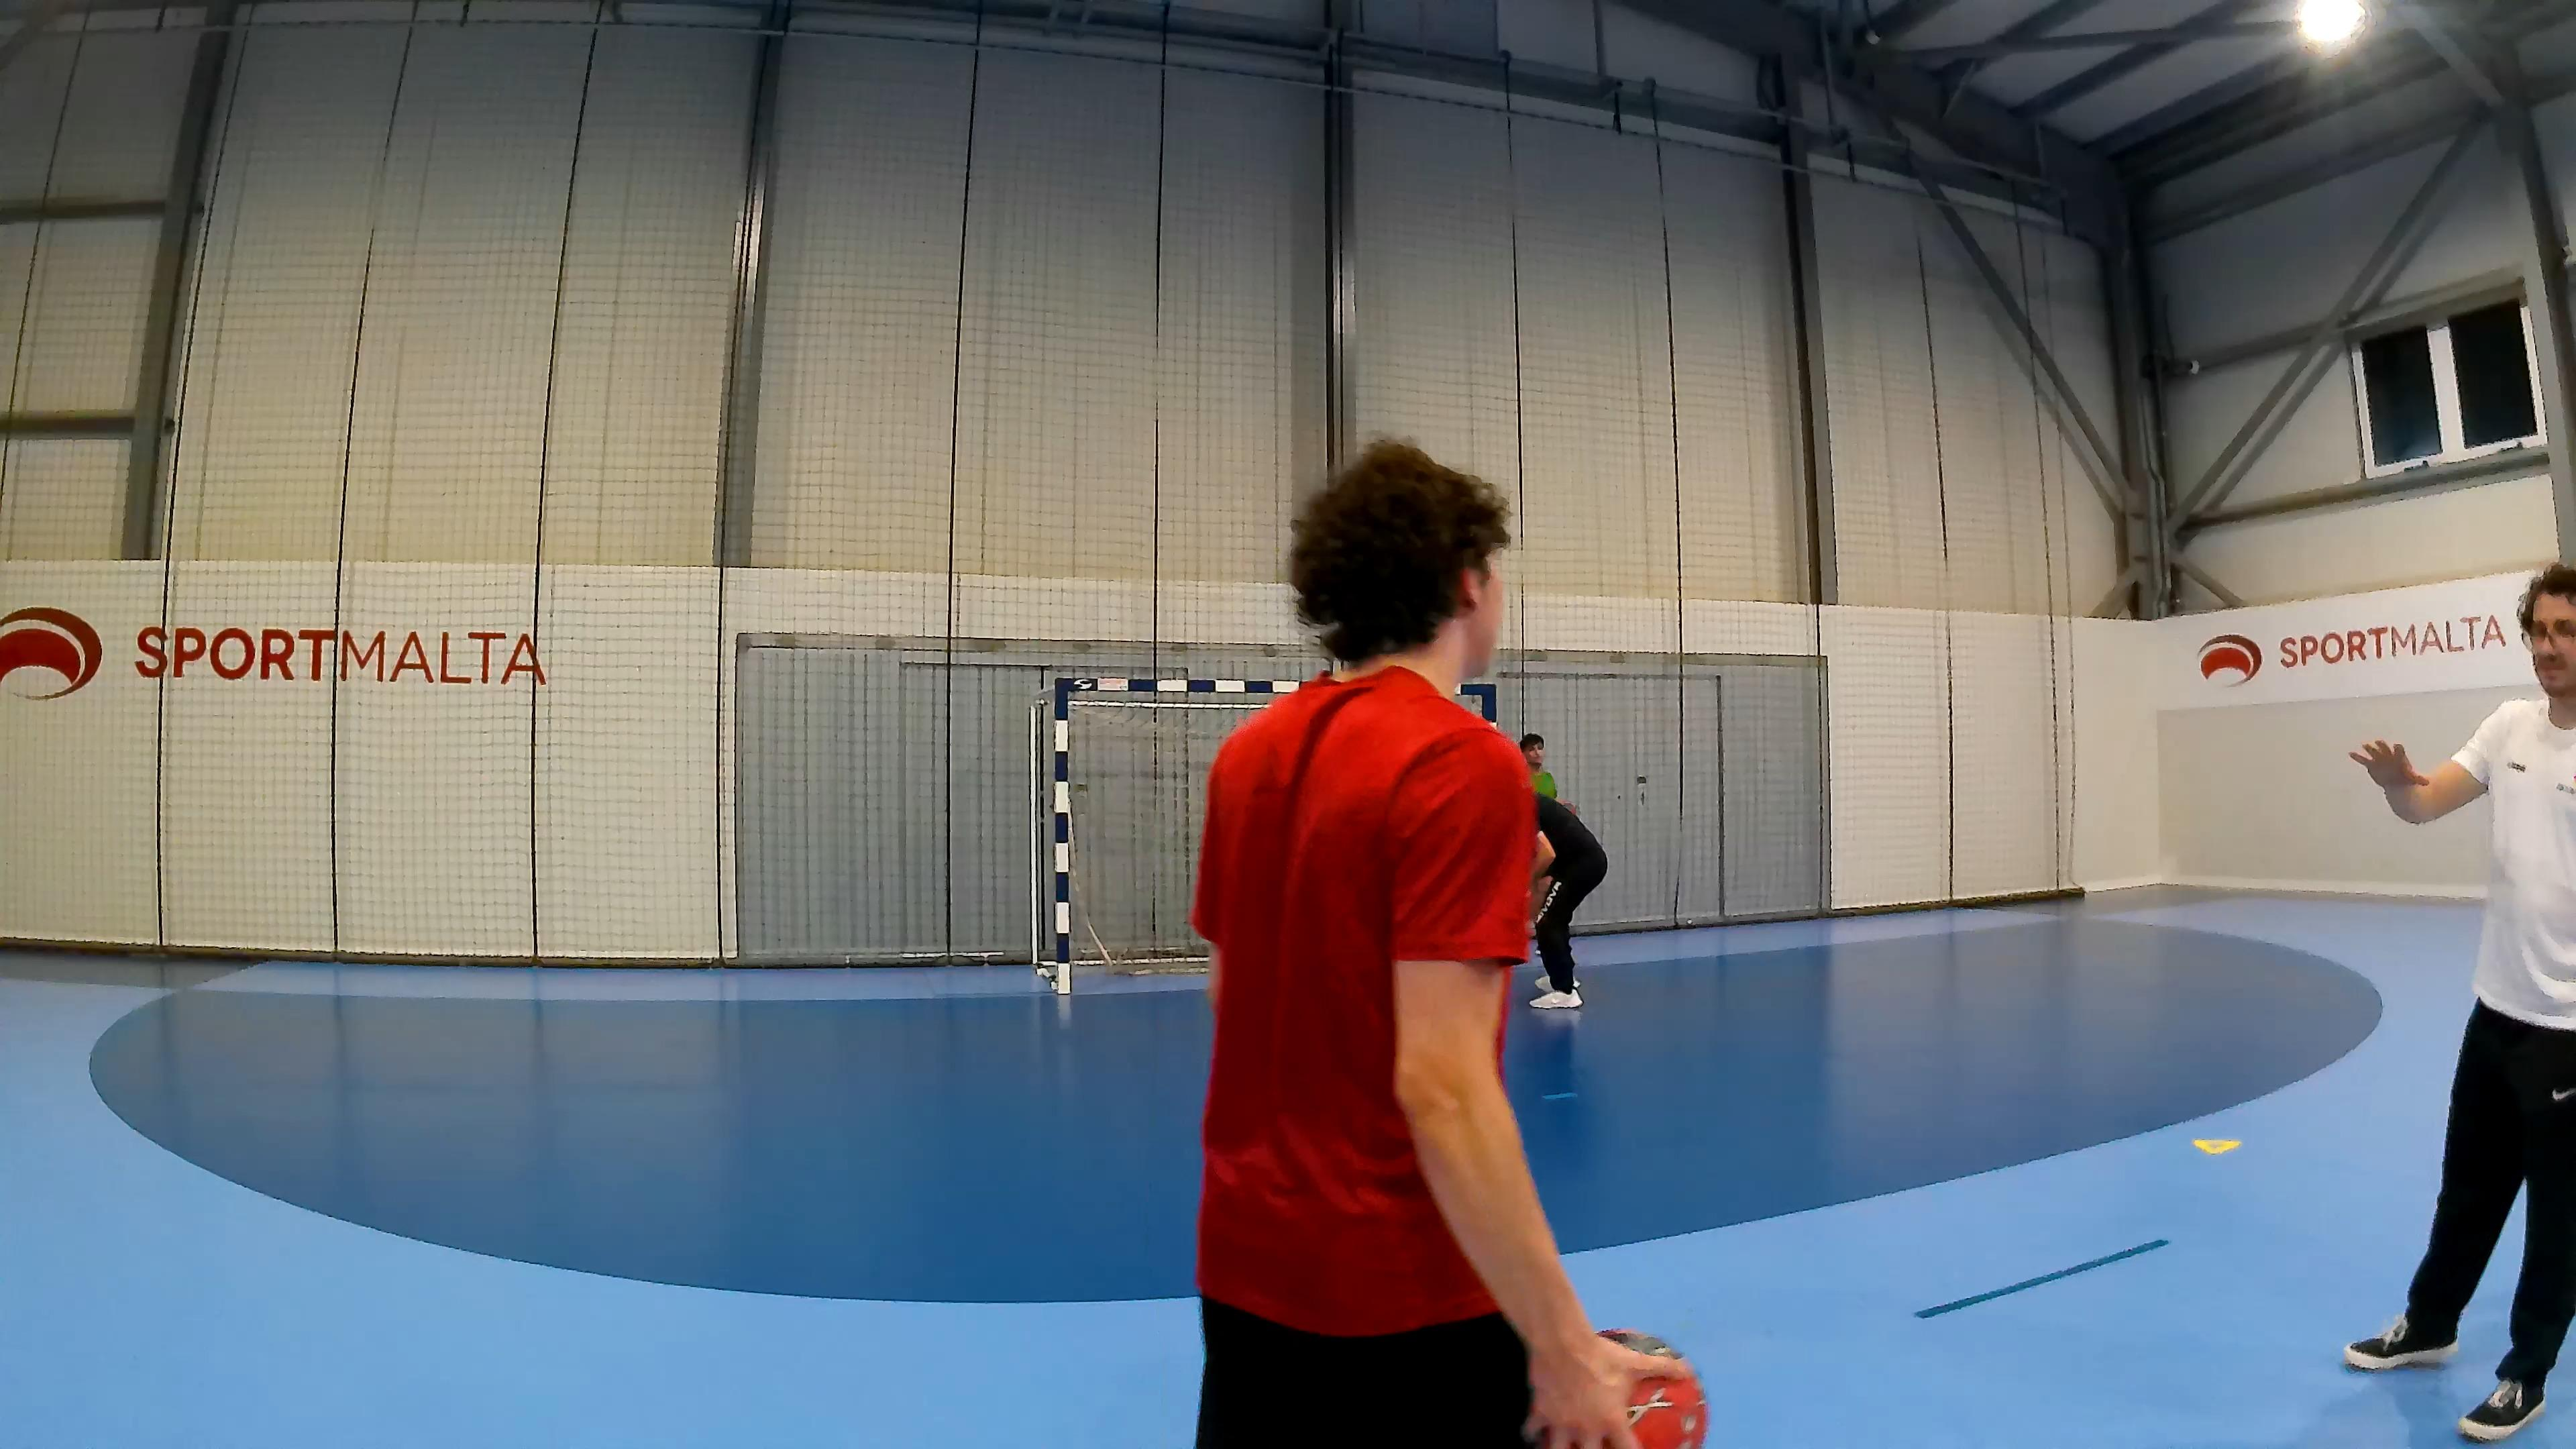handball: (1594, 1327, 1707, 1447)
